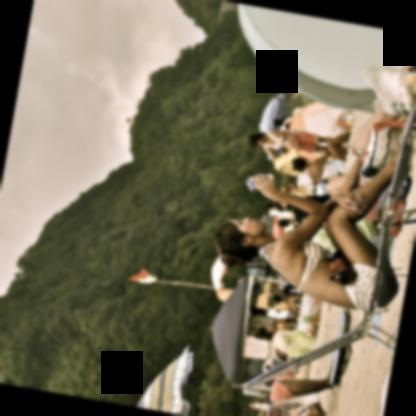handbag: (359, 125, 404, 175)
